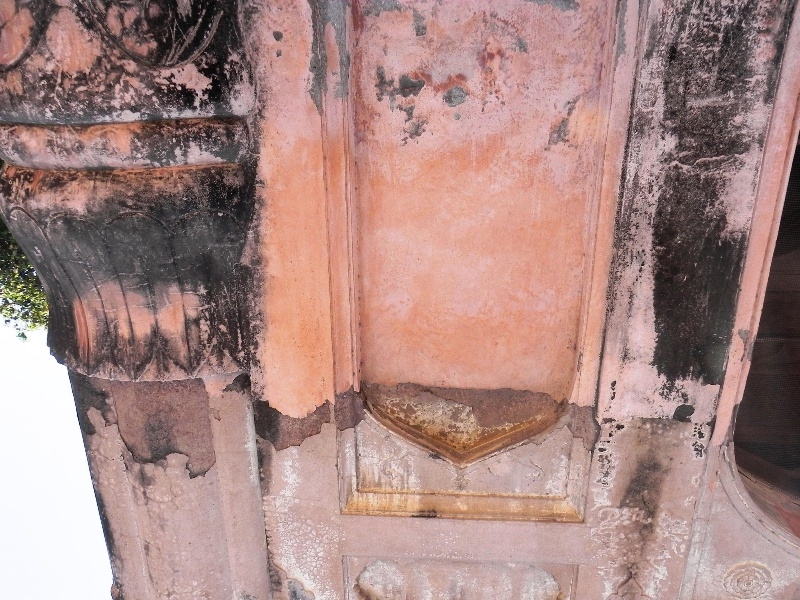Spalling: (298, 1, 355, 122)
